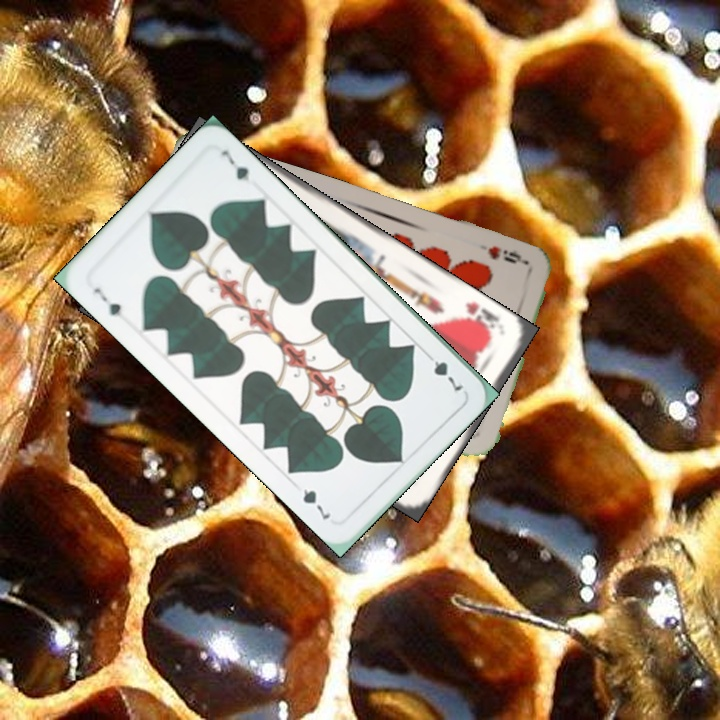G7: (421, 349, 466, 394), (89, 284, 124, 319)
H9: (484, 242, 529, 267)
HK: (456, 297, 502, 339)
